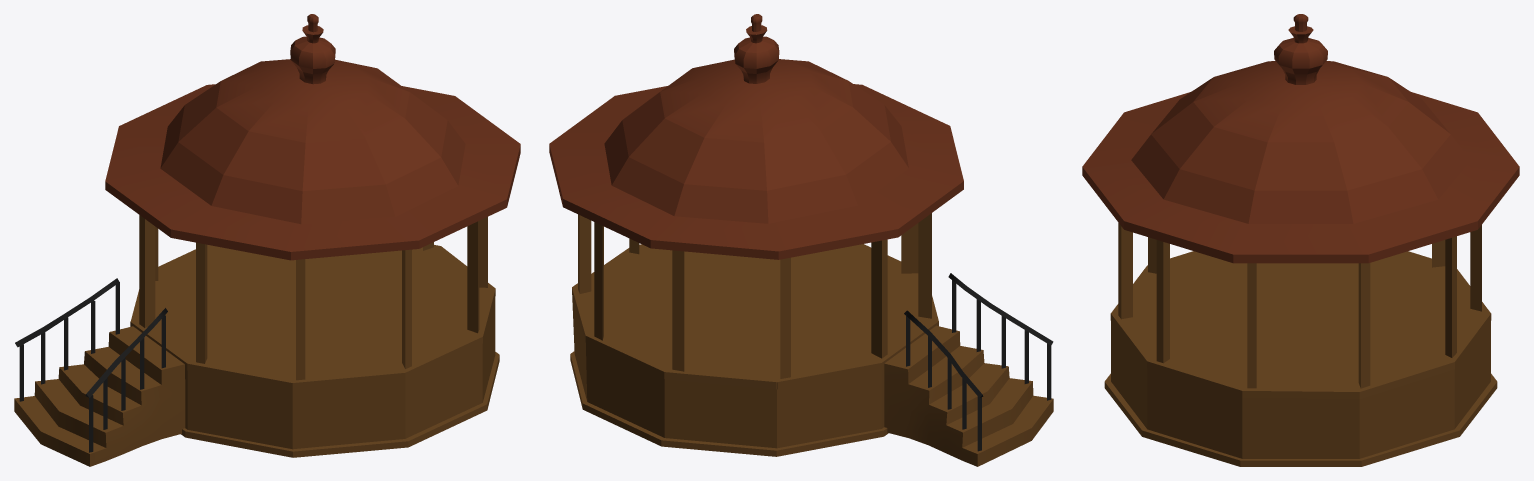
Rendered from pavilion.fbx.
The picture shows the model from 3 angles, left to right: view 1: azimuth 30°, elevation 25°; view 2: azimuth 150°, elevation 25°; view 3: azimuth 270°, elevation 25°; orthographic projection. The views are drawn at different scales.
Parts seen in each view (by area): view 1: Object006; view 2: Object006; view 3: Object006.
Boxes of the visible parts, <box> form: Object006: <box>14,14,520,466</box>; Object006: <box>549,14,1053,466</box>; Object006: <box>1082,14,1519,466</box>.
Size of the model in its own units: 61.17 by 47.11 by 50.13.
